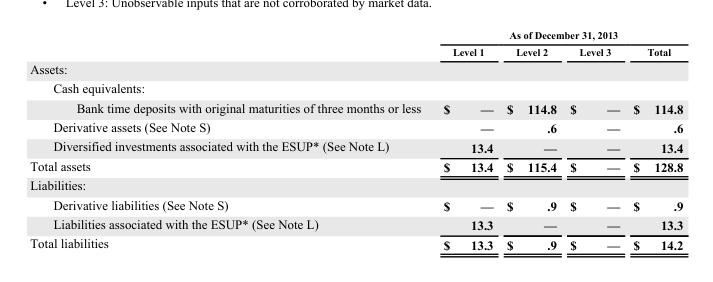table: (29, 29, 682, 251)
table column: (29, 29, 431, 251), (431, 29, 499, 251), (499, 29, 562, 251), (562, 29, 625, 251), (625, 29, 682, 251)
table column header: (29, 29, 682, 59)
table projected row header: (29, 59, 682, 78), (29, 78, 682, 97), (29, 175, 682, 194)
table row: (29, 97, 682, 117), (29, 136, 682, 156), (29, 194, 682, 214), (29, 59, 682, 78), (29, 78, 682, 97), (29, 117, 682, 136), (29, 156, 682, 175), (29, 175, 682, 194), (29, 214, 682, 233), (29, 233, 682, 251), (29, 43, 682, 59), (29, 29, 682, 43)
table spanning cell: (431, 29, 682, 43)
